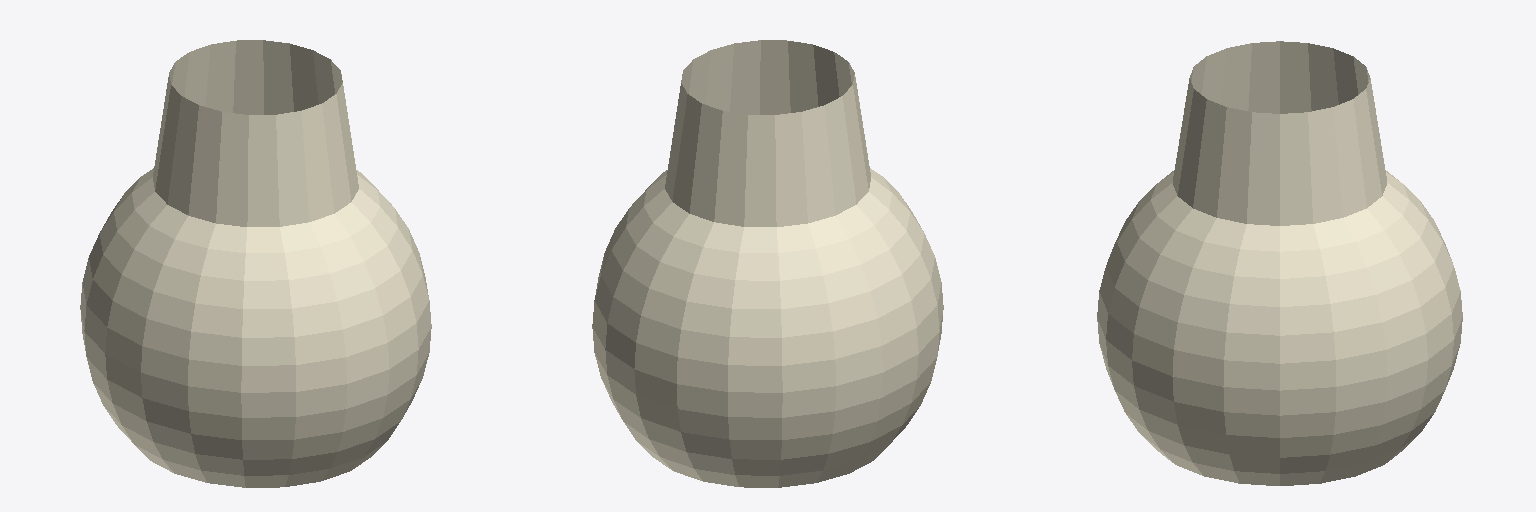
3 views of the same model, side by side, from view 1: azimuth 30°, elevation 25°; view 2: azimuth 150°, elevation 25°; view 3: azimuth 270°, elevation 25° (orthographic).
Parts seen in each view (by area): view 1: pSphere1; view 2: pSphere1; view 3: pSphere1.
Boxes of the visible parts, x1=… form: pSphere1: x1=80, y1=40, x2=431, y2=487; pSphere1: x1=592, y1=40, x2=943, y2=487; pSphere1: x1=1097, y1=41, x2=1462, y2=485.
Bounding box in the file's own units: 0.7843 × 0.887 × 0.8246.
Materials: 1 (1 with a texture image).